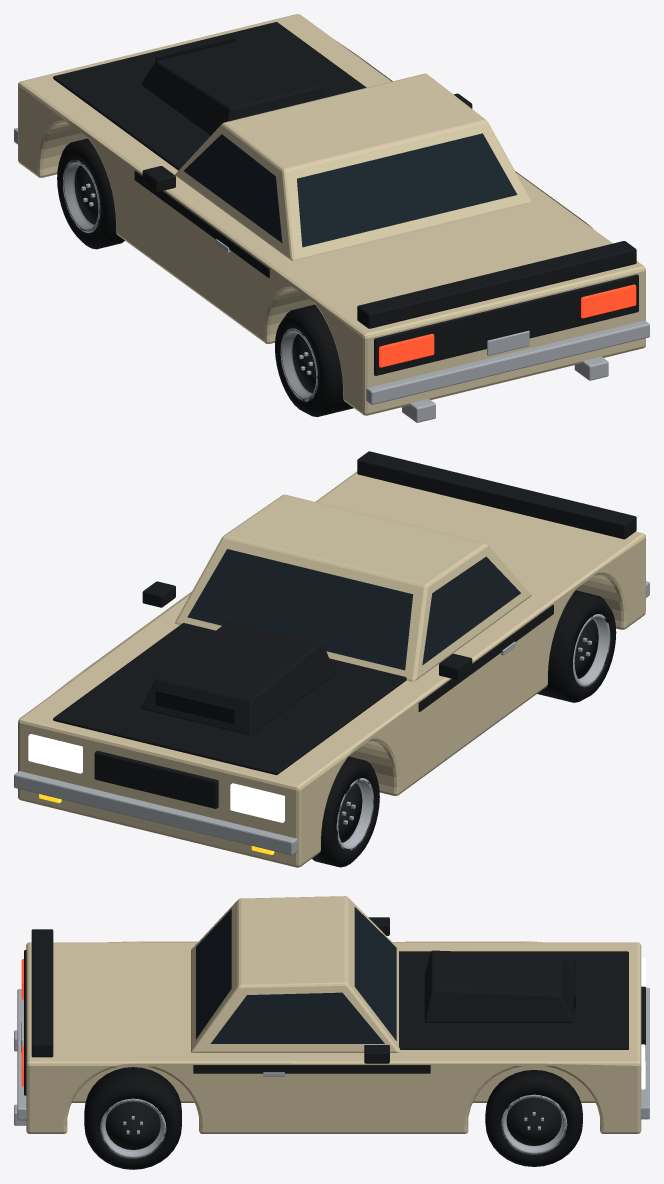
The model's file is ns-hammer-01.glb.
3 renders of one model, top to bottom at view 1: azimuth 30°, elevation 25°; view 2: azimuth 150°, elevation 25°; view 3: azimuth 270°, elevation 25°, orthographic. The views are drawn at different scales.
Visible parts, largest first — view 1: coachwork, greenhouse, rear-window, black-bonnet, hood-scoop, rear-black-panel, rear-ducktail, rear-bumper, side-window-left, tire-rear-left, tire-front-left, side-stripe-left (+10 smaller); view 2: coachwork, greenhouse, black-bonnet, windshield, hood-scoop, rear-ducktail, front-bumper, side-window-left, tire-rear-left, front-grille, tire-front-left, headlight-right (+9 smaller); view 3: coachwork, greenhouse, black-bonnet, hood-scoop, side-window-right, tire-rear-right, tire-front-right, windshield, rear-window, rear-ducktail, side-stripe-right, wheel-disc-front-right (+7 smaller).
Boxes of the visible parts, x1,y1,x2,y2 form: coachwork: (18, 14, 645, 415); greenhouse: (175, 73, 531, 261); rear-window: (297, 133, 517, 247); black-bonnet: (53, 22, 366, 170); hood-scoop: (141, 38, 326, 135); rear-black-panel: (374, 274, 638, 375); rear-ducktail: (357, 241, 636, 328); rear-bumper: (366, 320, 649, 404); side-window-left: (184, 134, 282, 242); tire-rear-left: (275, 304, 353, 416); tire-front-left: (57, 138, 124, 249); side-stripe-left: (134, 171, 269, 277); coachwork: (18, 471, 645, 867); greenhouse: (175, 494, 531, 681); black-bonnet: (53, 623, 406, 775); windshield: (187, 549, 412, 670); hood-scoop: (141, 619, 334, 735); rear-ducktail: (357, 451, 636, 539); front-bumper: (14, 771, 297, 855); side-window-left: (422, 556, 520, 665); tire-rear-left: (537, 590, 616, 702); front-grille: (94, 750, 218, 808); tire-front-left: (312, 756, 379, 867); headlight-right: (28, 734, 82, 773); coachwork: (26, 941, 641, 1133); greenhouse: (191, 896, 400, 1052); black-bonnet: (399, 951, 628, 1049); hood-scoop: (424, 950, 574, 1022); side-window-right: (210, 992, 384, 1043); tire-rear-right: (84, 1067, 181, 1169); tire-front-right: (485, 1070, 582, 1166); windshield: (354, 907, 396, 1040); rear-window: (196, 909, 231, 1039); rear-ducktail: (31, 929, 53, 1057); side-stripe-right: (193, 1065, 430, 1073); wheel-disc-front-right: (506, 1097, 561, 1145).
Bounding box in the file's own units: 2.38 × 1.39 × 4.69.
